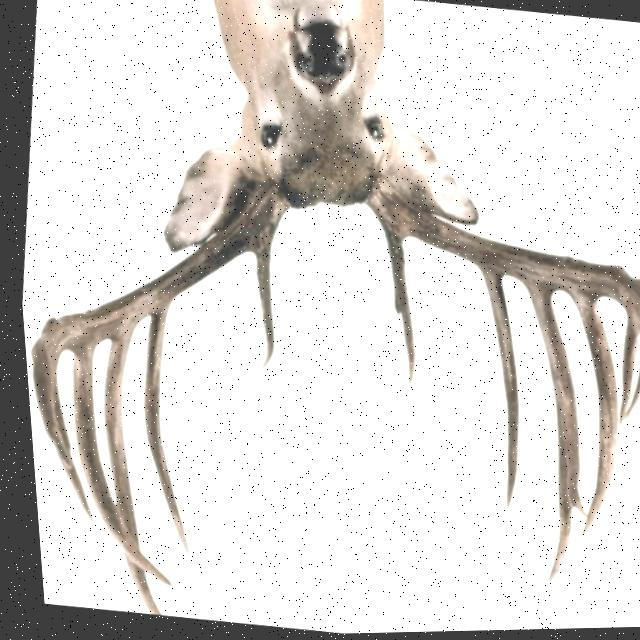E1: (563, 486, 578, 520)
L-F: (24, 177, 285, 471)
L-G1: (241, 229, 274, 372)
L-G2: (138, 305, 181, 557)
L-G4: (66, 345, 163, 587)
R-F: (362, 175, 640, 429)
R-G1: (375, 220, 410, 388)
R-G2: (474, 270, 513, 513)
R-G3: (519, 281, 573, 584)
R-G4: (565, 295, 611, 539)
